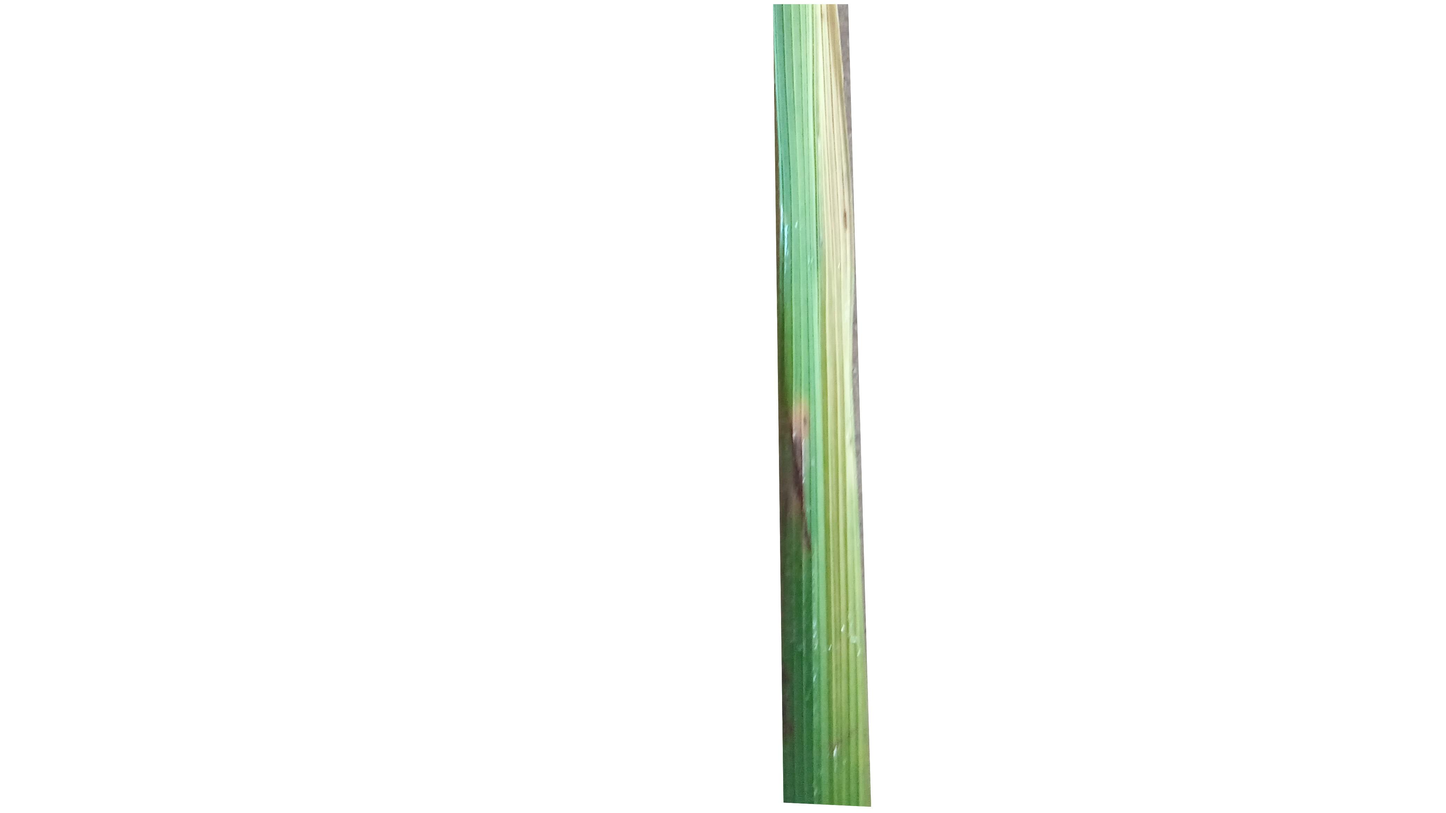Rice blast: (782, 405, 819, 533)
